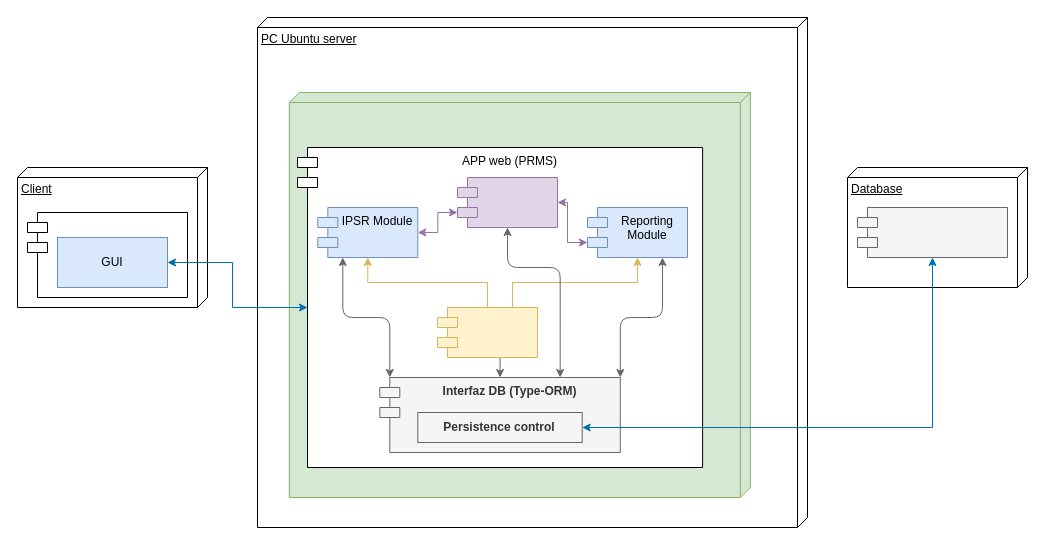
Image size: 1045x545. Some labels were removed from this diagram. The shapes that lost their labels are listed below. From the top down, each one's box as (x1, y1, x2, y2) in pixels, then its label:
(456, 176, 558, 228): Notification module
(856, 206, 1008, 258): <<Daemon>> MySQL
(26, 212, 188, 298): web browser
(288, 92, 750, 498): Nodejs server
(436, 306, 538, 358): Versioning module
